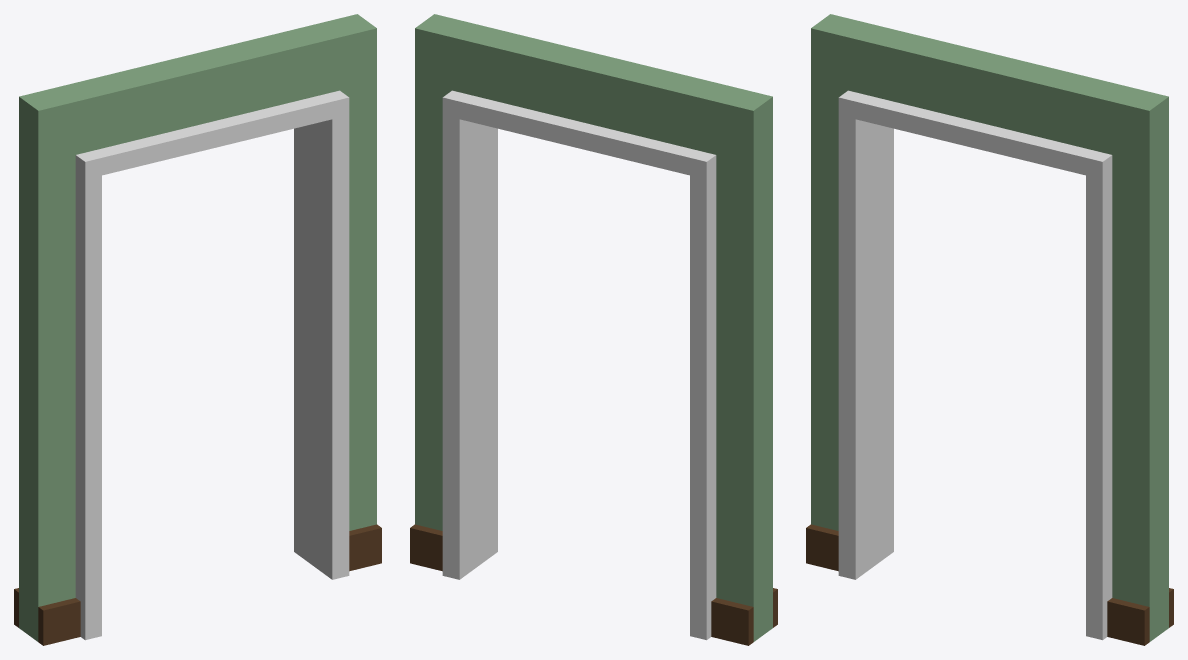
The model's file is h_wall_1_doorFrame.fbx.
3 views of the same model, side by side, from view 1: azimuth 30°, elevation 25°; view 2: azimuth 150°, elevation 25°; view 3: azimuth 330°, elevation 25° (orthographic).
Parts seen in each view (by area): view 1: Cube, DoorFrame; view 2: Cube, DoorFrame; view 3: Cube, DoorFrame.
Boxes of the visible parts, x1,y1,x2,y2 form: Cube: (14, 14, 381, 645); DoorFrame: (75, 90, 349, 640); Cube: (410, 14, 777, 645); DoorFrame: (442, 90, 716, 640); Cube: (806, 14, 1173, 645); DoorFrame: (838, 90, 1112, 640).
Size of the model in its own units: 200 by 300 by 39.37.
